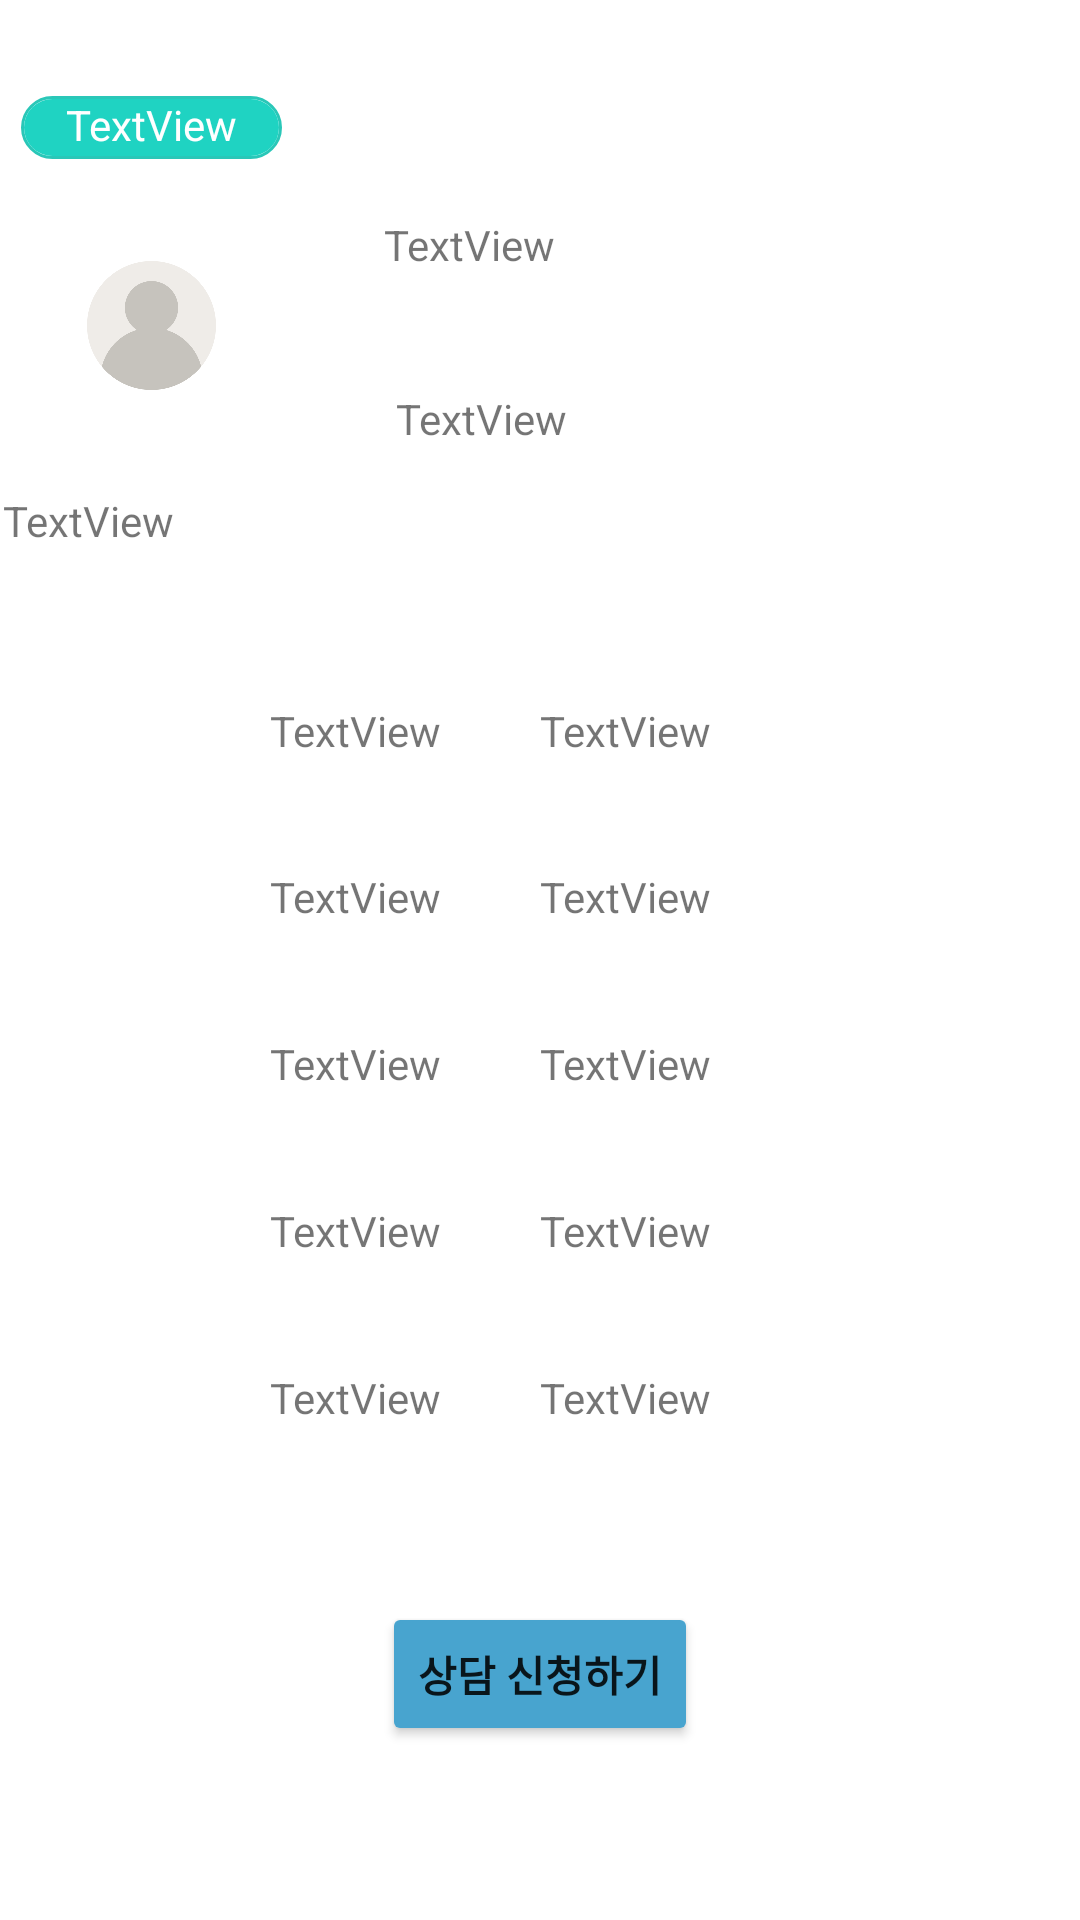

Screen size 1080 × 1920. Icon name, then its center in pixels as [x,y]:
profile: [151,335]
